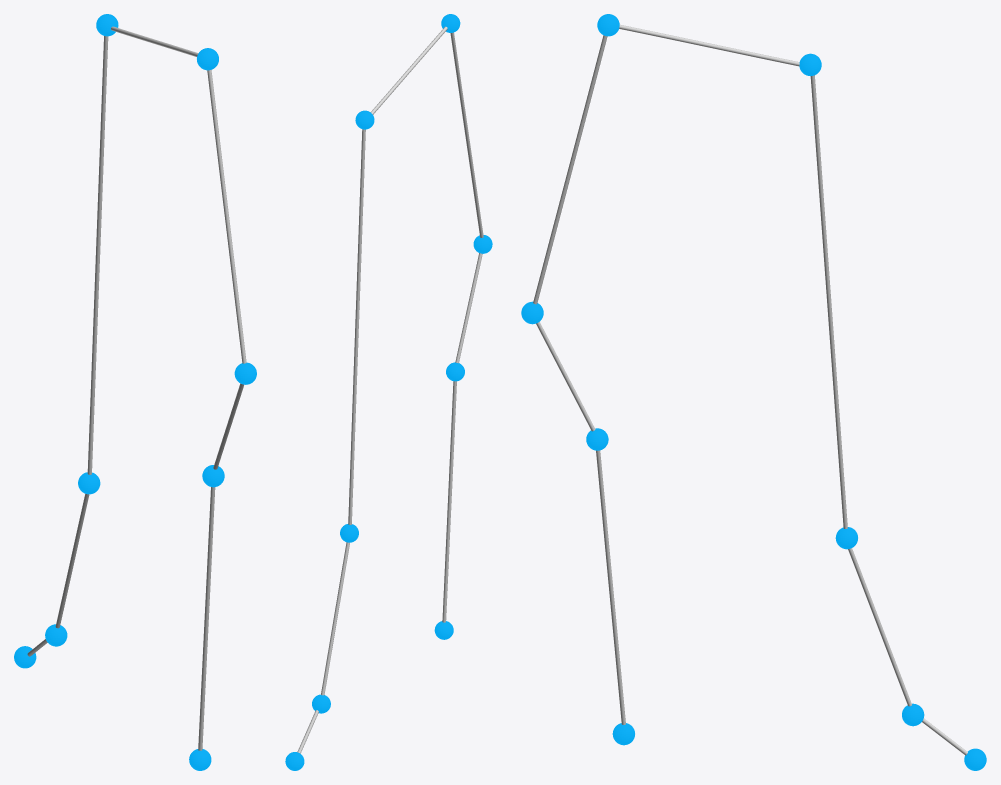
File: Mithun.glb
3 renders of one model, left to right at view 1: azimuth 30°, elevation 25°; view 2: azimuth 150°, elevation 25°; view 3: azimuth 270°, elevation 25°, orthographic. The views are drawn at different scales.
Parts seen in each view (by area): view 1: BézierCurve, Sphere.009; view 2: BézierCurve, Sphere.009; view 3: BézierCurve, Sphere.009.
Part boxes in pixels (<box>): BézierCurve: <box>27,26,246,750</box>; Sphere.009: <box>14,14,256,770</box>; BézierCurve: <box>297,26,483,753</box>; Sphere.009: <box>285,14,492,770</box>; BézierCurve: <box>533,24,967,755</box>; Sphere.009: <box>521,14,986,770</box>.
Size of the model in its own units: 0.0826 by 3.06 by 1.71.
